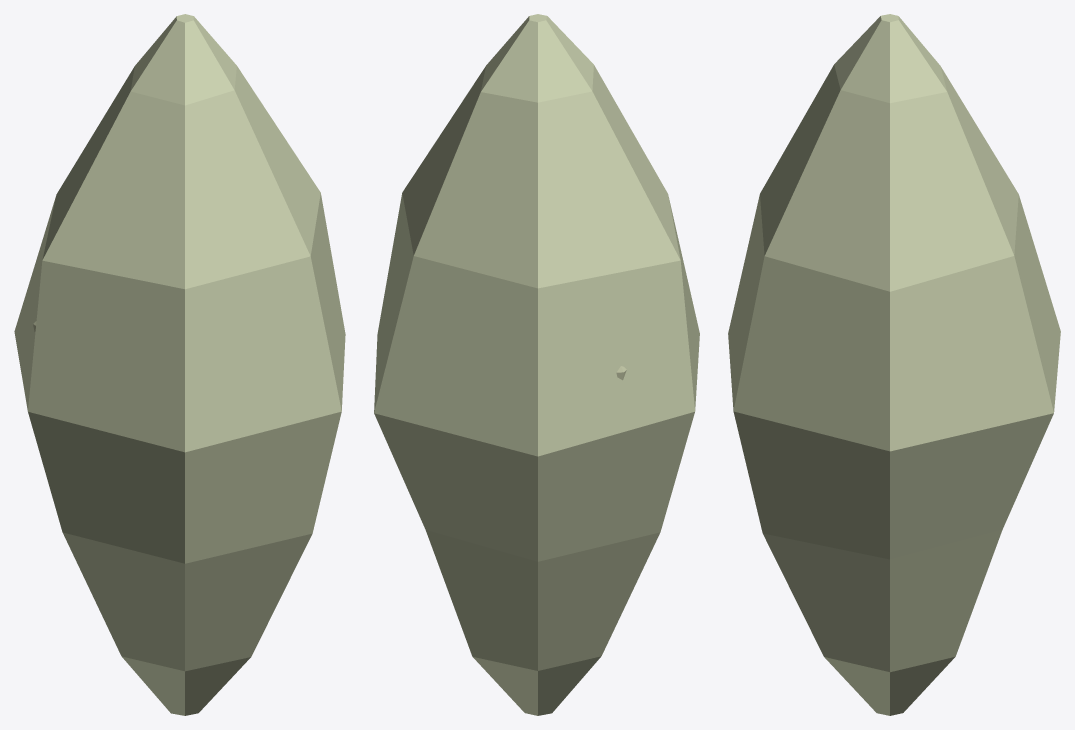
The model's file is enemy-stalker.glb.
3 renders of one model, left to right at view 1: azimuth 30°, elevation 25°; view 2: azimuth 150°, elevation 25°; view 3: azimuth 270°, elevation 25°, orthographic.
Parts seen in each view (by area): view 1: body; view 2: body; view 3: body.
Part boxes in pixels (x1,y1,x2,y2): body: [14, 14, 345, 715]; body: [374, 14, 699, 715]; body: [728, 14, 1060, 715].
Size of the model in its own units: 0.721 by 1.5 by 0.654.
